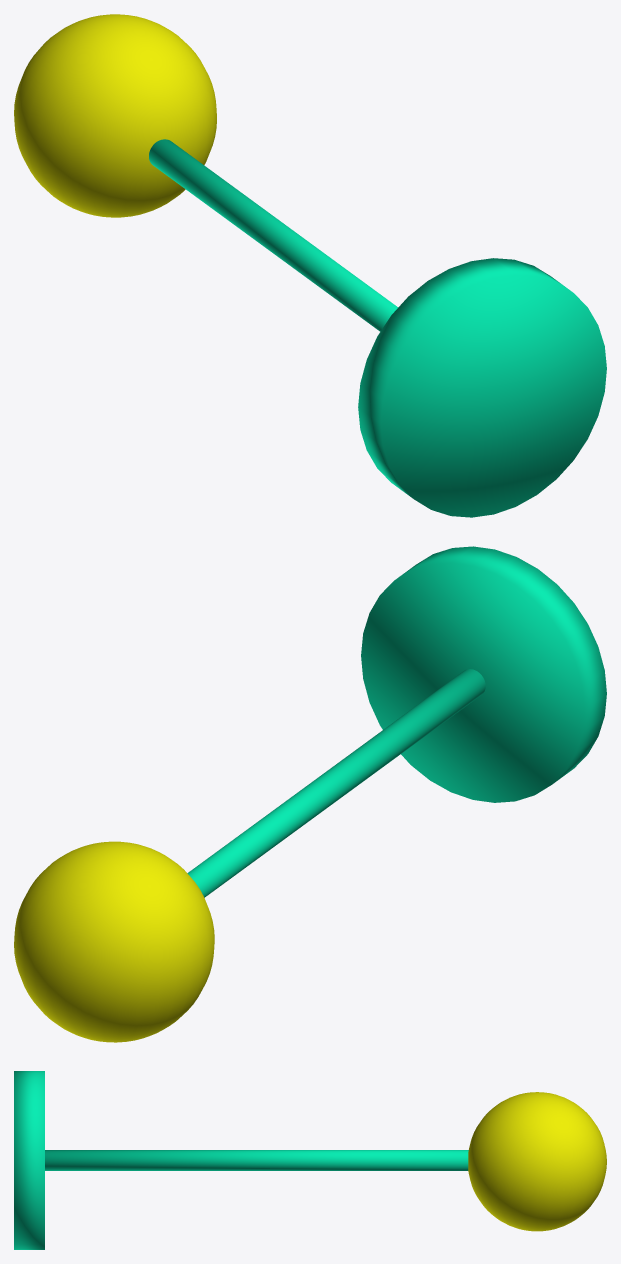
File: lampOn.fbx
3 renders of one model, top to bottom at view 1: azimuth 30°, elevation 25°; view 2: azimuth 150°, elevation 25°; view 3: azimuth 270°, elevation 25°, orthographic. The views are drawn at different scales.
Visible parts, largest first — view 1: Sphere; view 2: Sphere; view 3: Sphere.
Part boxes in pixels (x1=…): Sphere: x1=14, y1=14, x2=606, y2=517; Sphere: x1=14, y1=546, x2=606, y2=1042; Sphere: x1=14, y1=1071, x2=606, y2=1249.
Size of the model in its own units: 0.02 by 0.02 by 0.0663.
